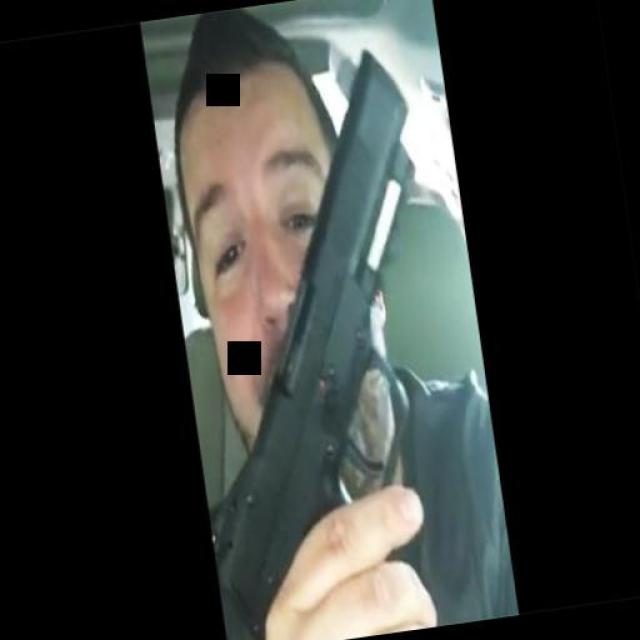gun: (148, 43, 482, 638)
